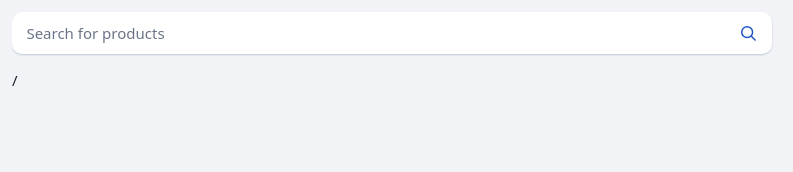
Test: SearchBox recent searches › searches again when a recent search is clicked
What coordinates should you click on to do the following:
click the dropdown named "Search products"
I would click on:
 (368, 33)
Its box is [12,12,724,54].
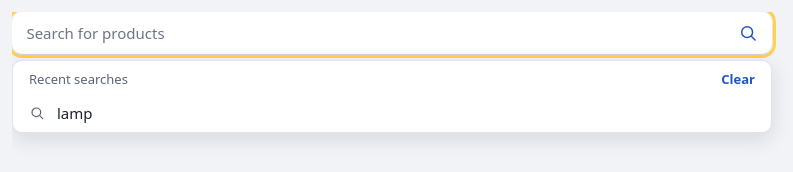
What coordinates should you click on to do the following:
click the option "lamp"
I would click on:
 (61, 113)
Its box is [29,103,92,123].
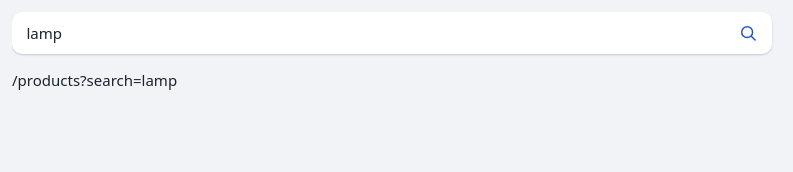
Check: the text with test id "where" reads "/products?search=lamp", box [12,70,177,90]
